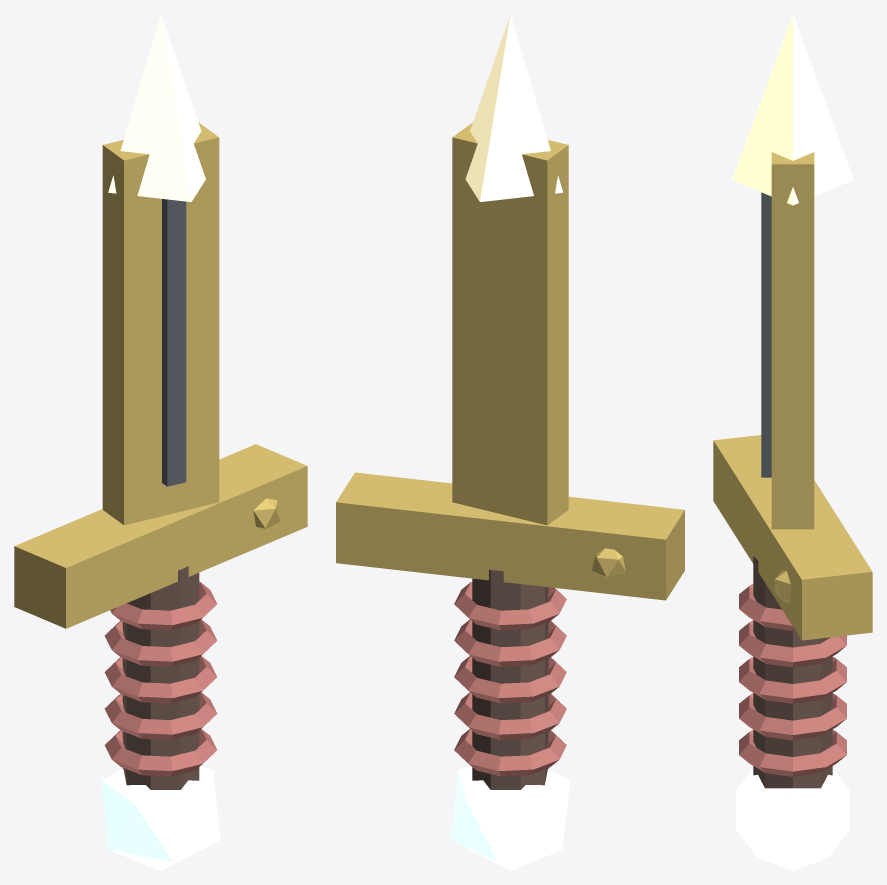
File: golden_dagger.glb
The picture shows the model from 3 angles, left to right: view 1: azimuth 30°, elevation 25°; view 2: azimuth 150°, elevation 25°; view 3: azimuth 270°, elevation 25°; orthographic projection.
Visible parts, largest first — view 1: BladeCore.001, OrnateGuard.001, NeedlePoint.001, GemPommel.001, Grip.001, Fuller.001, GripWrap_0.007, GripWrap_2.007, GripWrap_1.007, GripWrap_3.007, GripWrap_4.007, Rivet_1.007; view 2: BladeCore.001, OrnateGuard.001, NeedlePoint.001, GemPommel.001, Grip.001, GripWrap_2.007, GripWrap_0.007, GripWrap_3.007, GripWrap_1.007, GripWrap_4.007, Rivet_0.007; view 3: BladeCore.001, OrnateGuard.001, NeedlePoint.001, GemPommel.001, Grip.001, Fuller.001, GripWrap_0.007, GripWrap_2.007, GripWrap_1.007, GripWrap_3.007, GripWrap_4.007, Rivet_1.007.
Boxes of the visible parts, bbox=[...] form: BladeCore.001: bbox=[102, 122, 219, 525]; OrnateGuard.001: bbox=[14, 444, 307, 628]; NeedlePoint.001: bbox=[108, 14, 205, 201]; GemPommel.001: bbox=[101, 765, 220, 870]; Grip.001: bbox=[122, 566, 199, 789]; Fuller.001: bbox=[162, 199, 186, 486]; GripWrap_0.007: bbox=[104, 729, 216, 776]; GripWrap_2.007: bbox=[104, 656, 216, 703]; GripWrap_1.007: bbox=[104, 692, 217, 739]; GripWrap_3.007: bbox=[104, 619, 217, 666]; GripWrap_4.007: bbox=[110, 581, 216, 630]; Rivet_1.007: bbox=[253, 498, 280, 529]; BladeCore.001: bbox=[452, 122, 568, 525]; OrnateGuard.001: bbox=[336, 472, 684, 600]; NeedlePoint.001: bbox=[465, 14, 562, 201]; GemPommel.001: bbox=[451, 765, 569, 870]; Grip.001: bbox=[472, 569, 548, 789]; GripWrap_2.007: bbox=[454, 656, 566, 703]; GripWrap_0.007: bbox=[454, 729, 566, 776]; GripWrap_3.007: bbox=[454, 619, 566, 666]; GripWrap_1.007: bbox=[454, 692, 566, 739]; GripWrap_4.007: bbox=[454, 582, 566, 630]; Rivet_0.007: bbox=[592, 548, 625, 579]; BladeCore.001: bbox=[771, 152, 814, 529]; OrnateGuard.001: bbox=[713, 435, 872, 640]; NeedlePoint.001: bbox=[732, 14, 853, 205]; GemPommel.001: bbox=[736, 768, 849, 870]; Grip.001: bbox=[753, 555, 832, 788]; Fuller.001: bbox=[761, 192, 771, 477]; GripWrap_0.007: bbox=[739, 730, 846, 776]; GripWrap_2.007: bbox=[739, 657, 846, 703]; GripWrap_1.007: bbox=[739, 693, 846, 740]; GripWrap_3.007: bbox=[739, 620, 846, 667]; GripWrap_4.007: bbox=[739, 584, 795, 630]; Rivet_1.007: bbox=[775, 570, 790, 602].
Size of the model in its own units: 0.572 by 1.55 by 0.2608.
